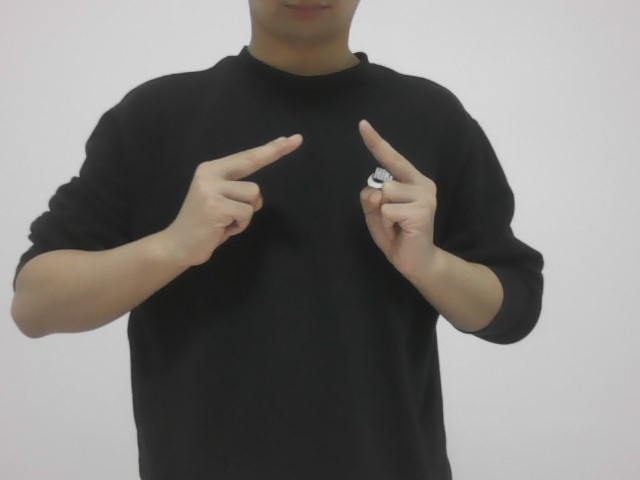know: (157, 121, 446, 285)
